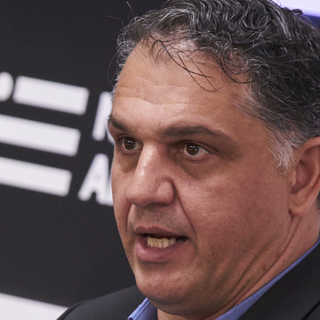eye: (167, 138, 216, 164), (111, 134, 150, 158)
